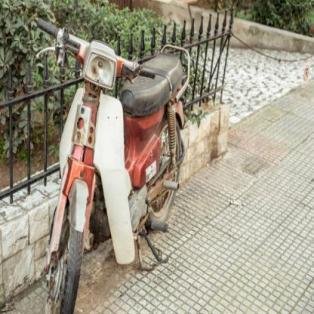Motocicleta: (22, 10, 195, 313)
